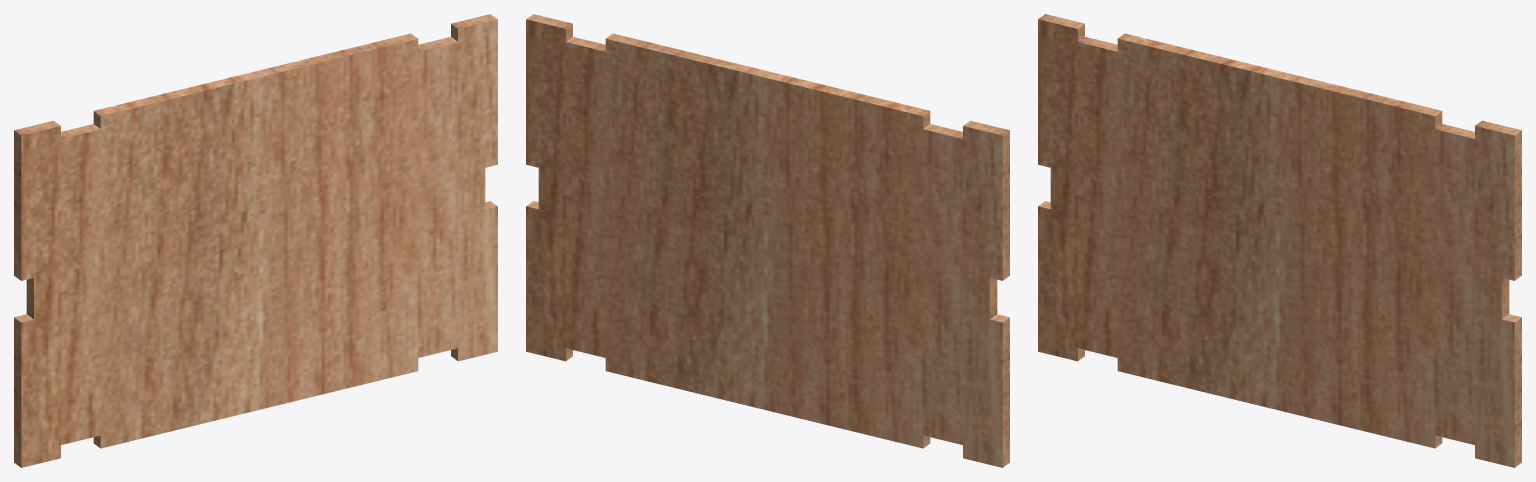
File: Back Panel.obj
3 renders of one model, left to right at view 1: azimuth 30°, elevation 25°; view 2: azimuth 150°, elevation 25°; view 3: azimuth 330°, elevation 25°, orthographic.
Visible parts, largest first — view 1: Solid1; view 2: Solid1; view 3: Solid1.
Part boxes in pixels (bbox=[...]): Solid1: bbox=[14, 14, 497, 467]; Solid1: bbox=[526, 14, 1009, 467]; Solid1: bbox=[1038, 14, 1521, 467].
Size of the model in its own units: 152 by 102 by 4.
Materials: 1 (1 with a texture image).
